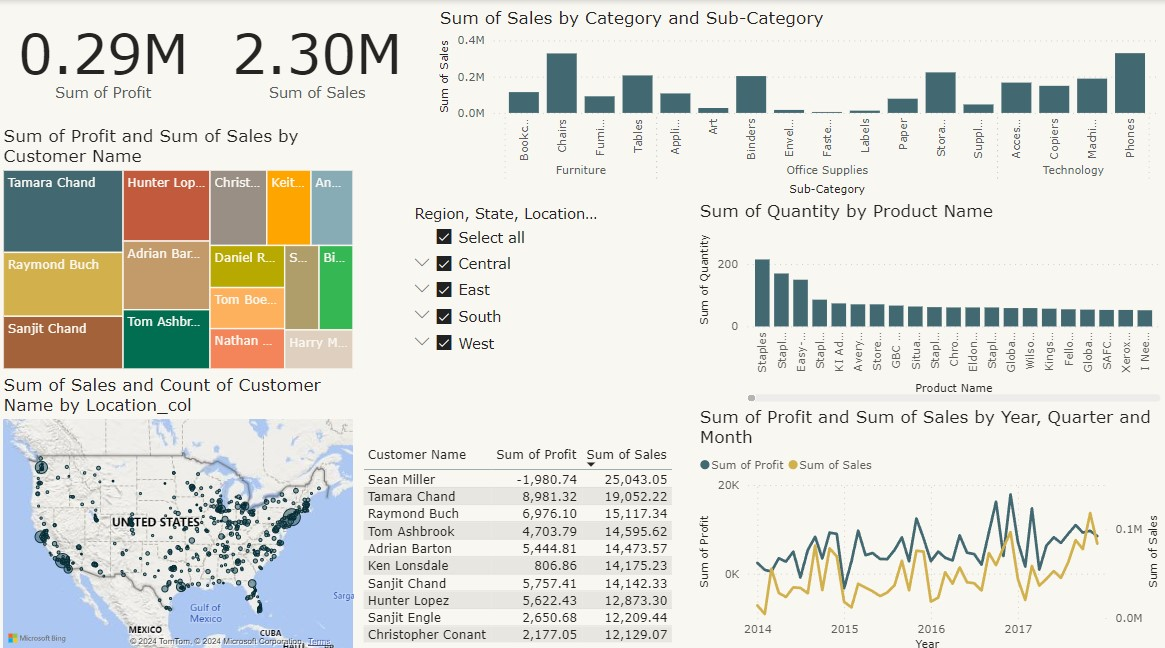

What the dashboard file says about the page in this screenshot:
{"tool":"powerbi","page":{"name":"Page 4","canvas":[1280,720],"ordinal":0},"visuals":[{"type":"card","fields":{"Values":["Sample-Superstore.Sales"]},"box":[229.2,0,240.1,129],"z":0},{"type":"card","fields":{"Values":["Sample-Superstore.Profit"]},"box":[0,0,229.2,129],"z":1000},{"type":"map","fields":{"Category":["Sample-Superstore.Country","Sample-Superstore.State","Sample-Superstore.Location_col"],"Size":["Sample-Superstore.Sales"]},"box":[0,410.3,393.8,310.1],"z":2000},{"type":"treemap","fields":{"Group":["Sample-Superstore.Customer Name"],"Values":["Sample-Superstore.Profit"]},"box":[0,137.2,393.8,273.1],"z":3000},{"type":"tableEx","fields":{"Values":["Sample-Superstore.Customer Name","Sample-Superstore.Profit","Sample-Superstore.Sales"]},"box":[393.8,484.4,370.5,236],"z":4000},{"type":"lineChart","fields":{"Y":["Sample-Superstore.Profit"],"Category":["Sample-Superstore.Order Date.Variation.Date Hierarchy.Year","Sample-Superstore.Order Date.Variation.Date Hierarchy.Quarter","Sample-Superstore.Order Date.Variation.Date Hierarchy.Month","Sample-Superstore.Order Date.Variation.Date Hierarchy.Day"],"Y2":["Sample-Superstore.Sales"]},"box":[764.3,446,516,273.1],"z":5000},{"type":"clusteredColumnChart","fields":{"Y":["Sample-Superstore.Sales"],"Category":["Sample-Superstore.Category","Sample-Superstore.Sub-Category"]},"box":[478.9,8.2,801.4,211.3],"z":6000},{"type":"clusteredColumnChart","fields":{"Category":["Sample-Superstore.Product Name"],"Y":["Sample-Superstore.Quantity"]},"box":[764.3,219.6,516,226.4],"z":7000},{"type":"slicer","fields":{"Values":["Sample-Superstore.Region","Sample-Superstore.State","Sample-Superstore.Location_col"]},"box":[443.2,219.6,237.4,264.8],"z":8000}]}

Visuals, with their boxes in screenshot pixels (x1, y1, x2, y2), scaled from the page's 1280x720 canvas onto the 1165x648 screenshot:
card - Sample-Superstore.Sales: bbox=(209, 0, 427, 116)
card - Sample-Superstore.Profit: bbox=(0, 0, 209, 116)
map - Sample-Superstore.Country x Sample-Superstore.State: bbox=(0, 369, 358, 647)
treemap - Sample-Superstore.Customer Name x Sample-Superstore.Profit: bbox=(0, 123, 358, 369)
tableEx - Sample-Superstore.Customer Name x Sample-Superstore.Profit: bbox=(358, 436, 696, 647)
lineChart - Sample-Superstore.Profit x Sample-Superstore.Order Date.Variation.Date Hierarchy.Year: bbox=(696, 401, 1164, 647)
clusteredColumnChart - Sample-Superstore.Sales x Sample-Superstore.Category: bbox=(436, 7, 1164, 198)
clusteredColumnChart - Sample-Superstore.Product Name x Sample-Superstore.Quantity: bbox=(696, 198, 1164, 401)
slicer - Sample-Superstore.Region x Sample-Superstore.State: bbox=(403, 198, 619, 436)
